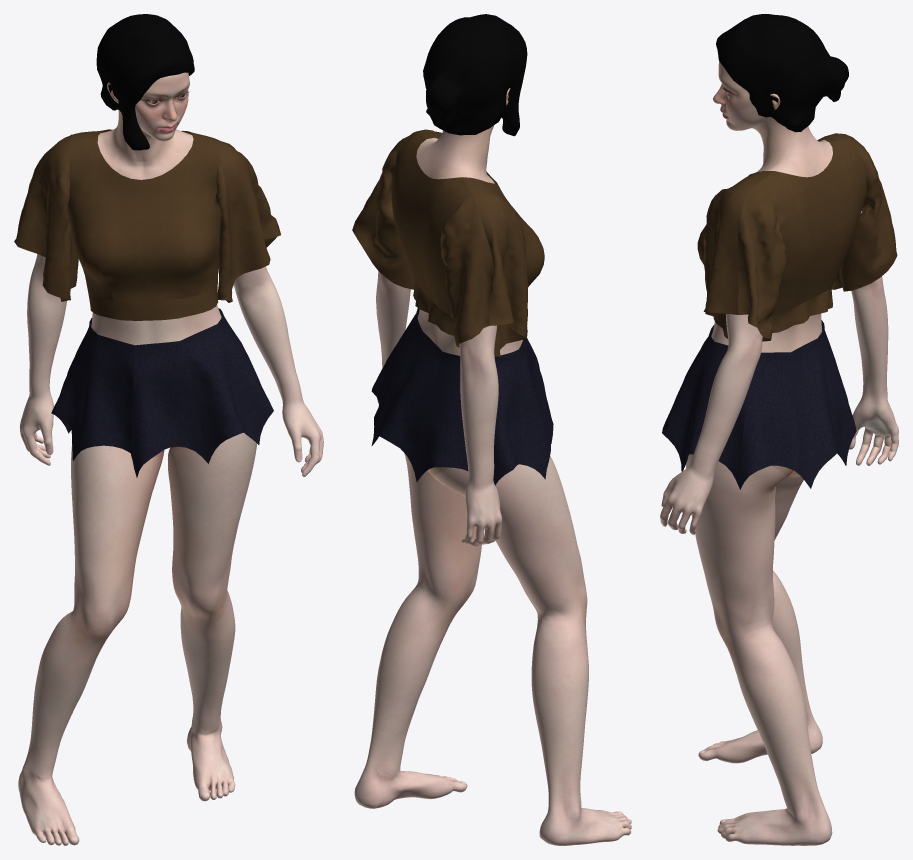
File: Dynamic_2.obj
The picture shows the model from 3 angles, left to right: view 1: azimuth 30°, elevation 25°; view 2: azimuth 150°, elevation 25°; view 3: azimuth 270°, elevation 25°; orthographic projection. The views are drawn at different scales.
Size of the model in its own units: 612 by 1724 by 471.
